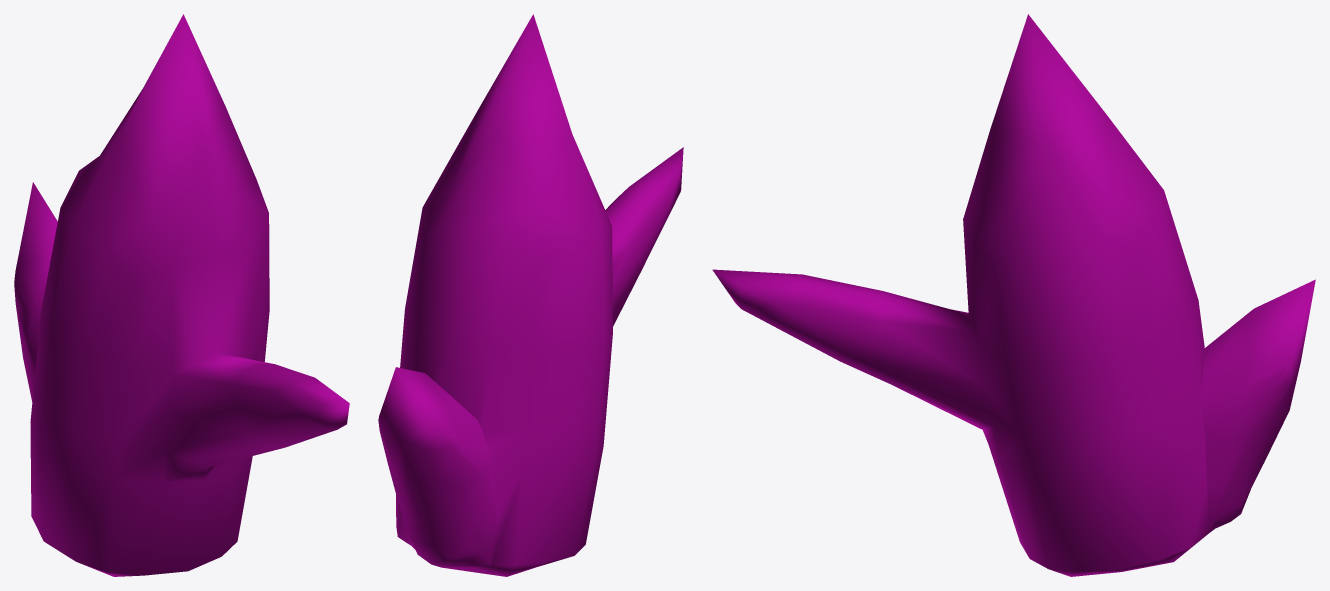
Rendered from CRYSTALGROUPFINAL.fbx.
The picture shows the model from 3 angles, left to right: view 1: azimuth 30°, elevation 25°; view 2: azimuth 150°, elevation 25°; view 3: azimuth 270°, elevation 25°; orthographic projection. The views are drawn at different scales.
Parts seen in each view (by area): view 1: crystal_group2; view 2: crystal_group2; view 3: crystal_group2.
Boxes of the visible parts, x1=… form: crystal_group2: x1=14, y1=14, x2=349, y2=576; crystal_group2: x1=378, y1=14, x2=683, y2=576; crystal_group2: x1=712, y1=14, x2=1315, y2=576.
Bounding box in the file's own units: 2.07 × 5.37 × 5.43.
